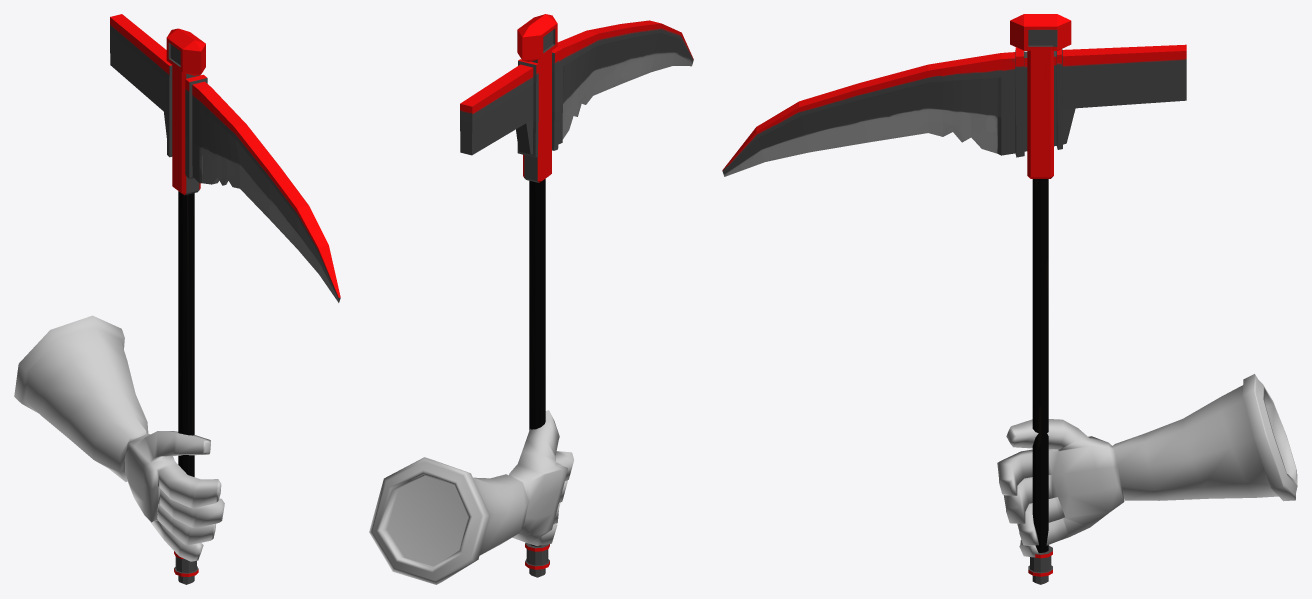
Rendered from Mod_Lie_with_hand_4-6.fbx.
3 views of the same model, side by side, from view 1: azimuth 30°, elevation 25°; view 2: azimuth 150°, elevation 25°; view 3: azimuth 270°, elevation 25° (orthographic). The views are drawn at different scales.
Visible parts, largest first — view 1: pCylinder3; view 2: pCylinder3; view 3: pCylinder3.
Boxes of the visible parts, <box> form: pCylinder3: <box>14,14,340,584</box>; pCylinder3: <box>369,14,693,584</box>; pCylinder3: <box>722,14,1297,584</box>.
Size of the model in its own units: 14.82 by 72.26 by 65.96.
